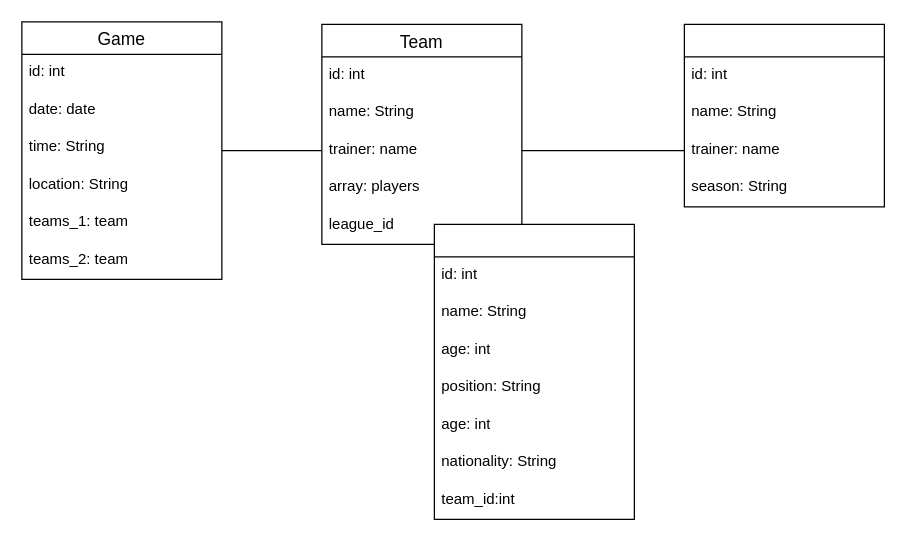
This 906x545 diagram has some shape labels left out. Here are the shapes that lost their labels. From the top down, the box of each, then its label:
(683, 23, 884, 207): League
(433, 223, 634, 519): Player
